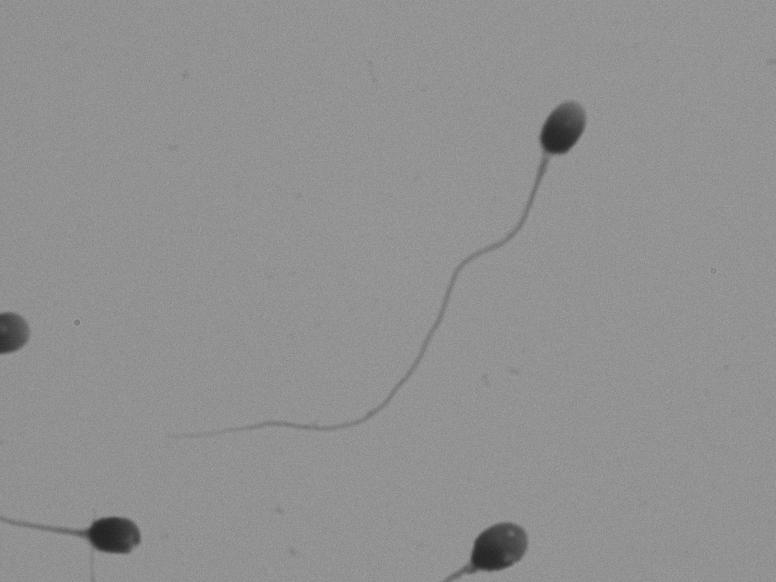Abnormal: (408, 496, 556, 577)
Normal: (128, 69, 595, 466)
